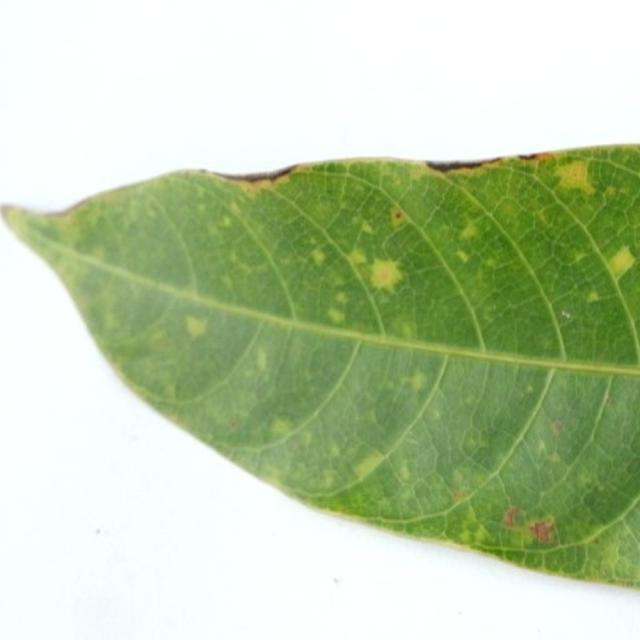Mango: (4, 145, 639, 586)
Powdery_Mildew: (364, 254, 416, 299), (555, 161, 591, 192), (454, 507, 487, 538), (359, 449, 387, 476), (609, 246, 634, 273), (529, 520, 556, 543), (495, 198, 521, 221), (408, 162, 441, 180), (185, 314, 208, 338), (463, 432, 490, 452), (270, 417, 292, 438), (406, 370, 428, 390), (459, 221, 480, 241), (537, 207, 557, 228), (319, 469, 339, 489), (503, 506, 520, 527), (102, 311, 119, 331), (327, 307, 345, 325), (576, 472, 595, 489), (425, 404, 443, 421), (390, 209, 406, 228), (255, 348, 268, 371), (397, 463, 412, 482), (310, 248, 326, 265), (452, 468, 467, 486), (546, 450, 563, 465), (375, 496, 392, 511), (363, 409, 378, 424), (327, 442, 341, 458), (400, 322, 413, 339), (221, 274, 234, 290), (550, 419, 563, 435), (360, 221, 374, 235), (624, 458, 637, 473), (335, 291, 348, 305), (456, 250, 470, 263), (163, 381, 176, 395), (452, 491, 466, 504), (228, 415, 241, 429), (220, 215, 233, 228), (604, 186, 618, 198), (485, 257, 498, 269), (587, 291, 600, 302), (604, 396, 615, 407), (525, 383, 535, 393)
